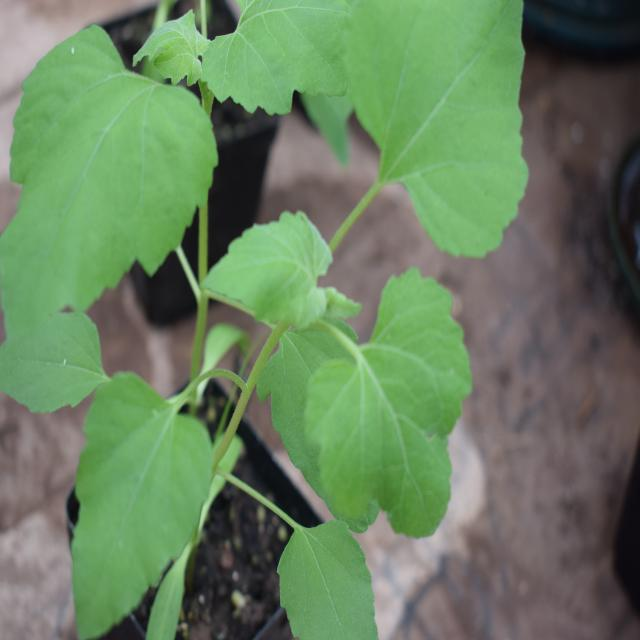cocklebur: (24, 0, 507, 615)
